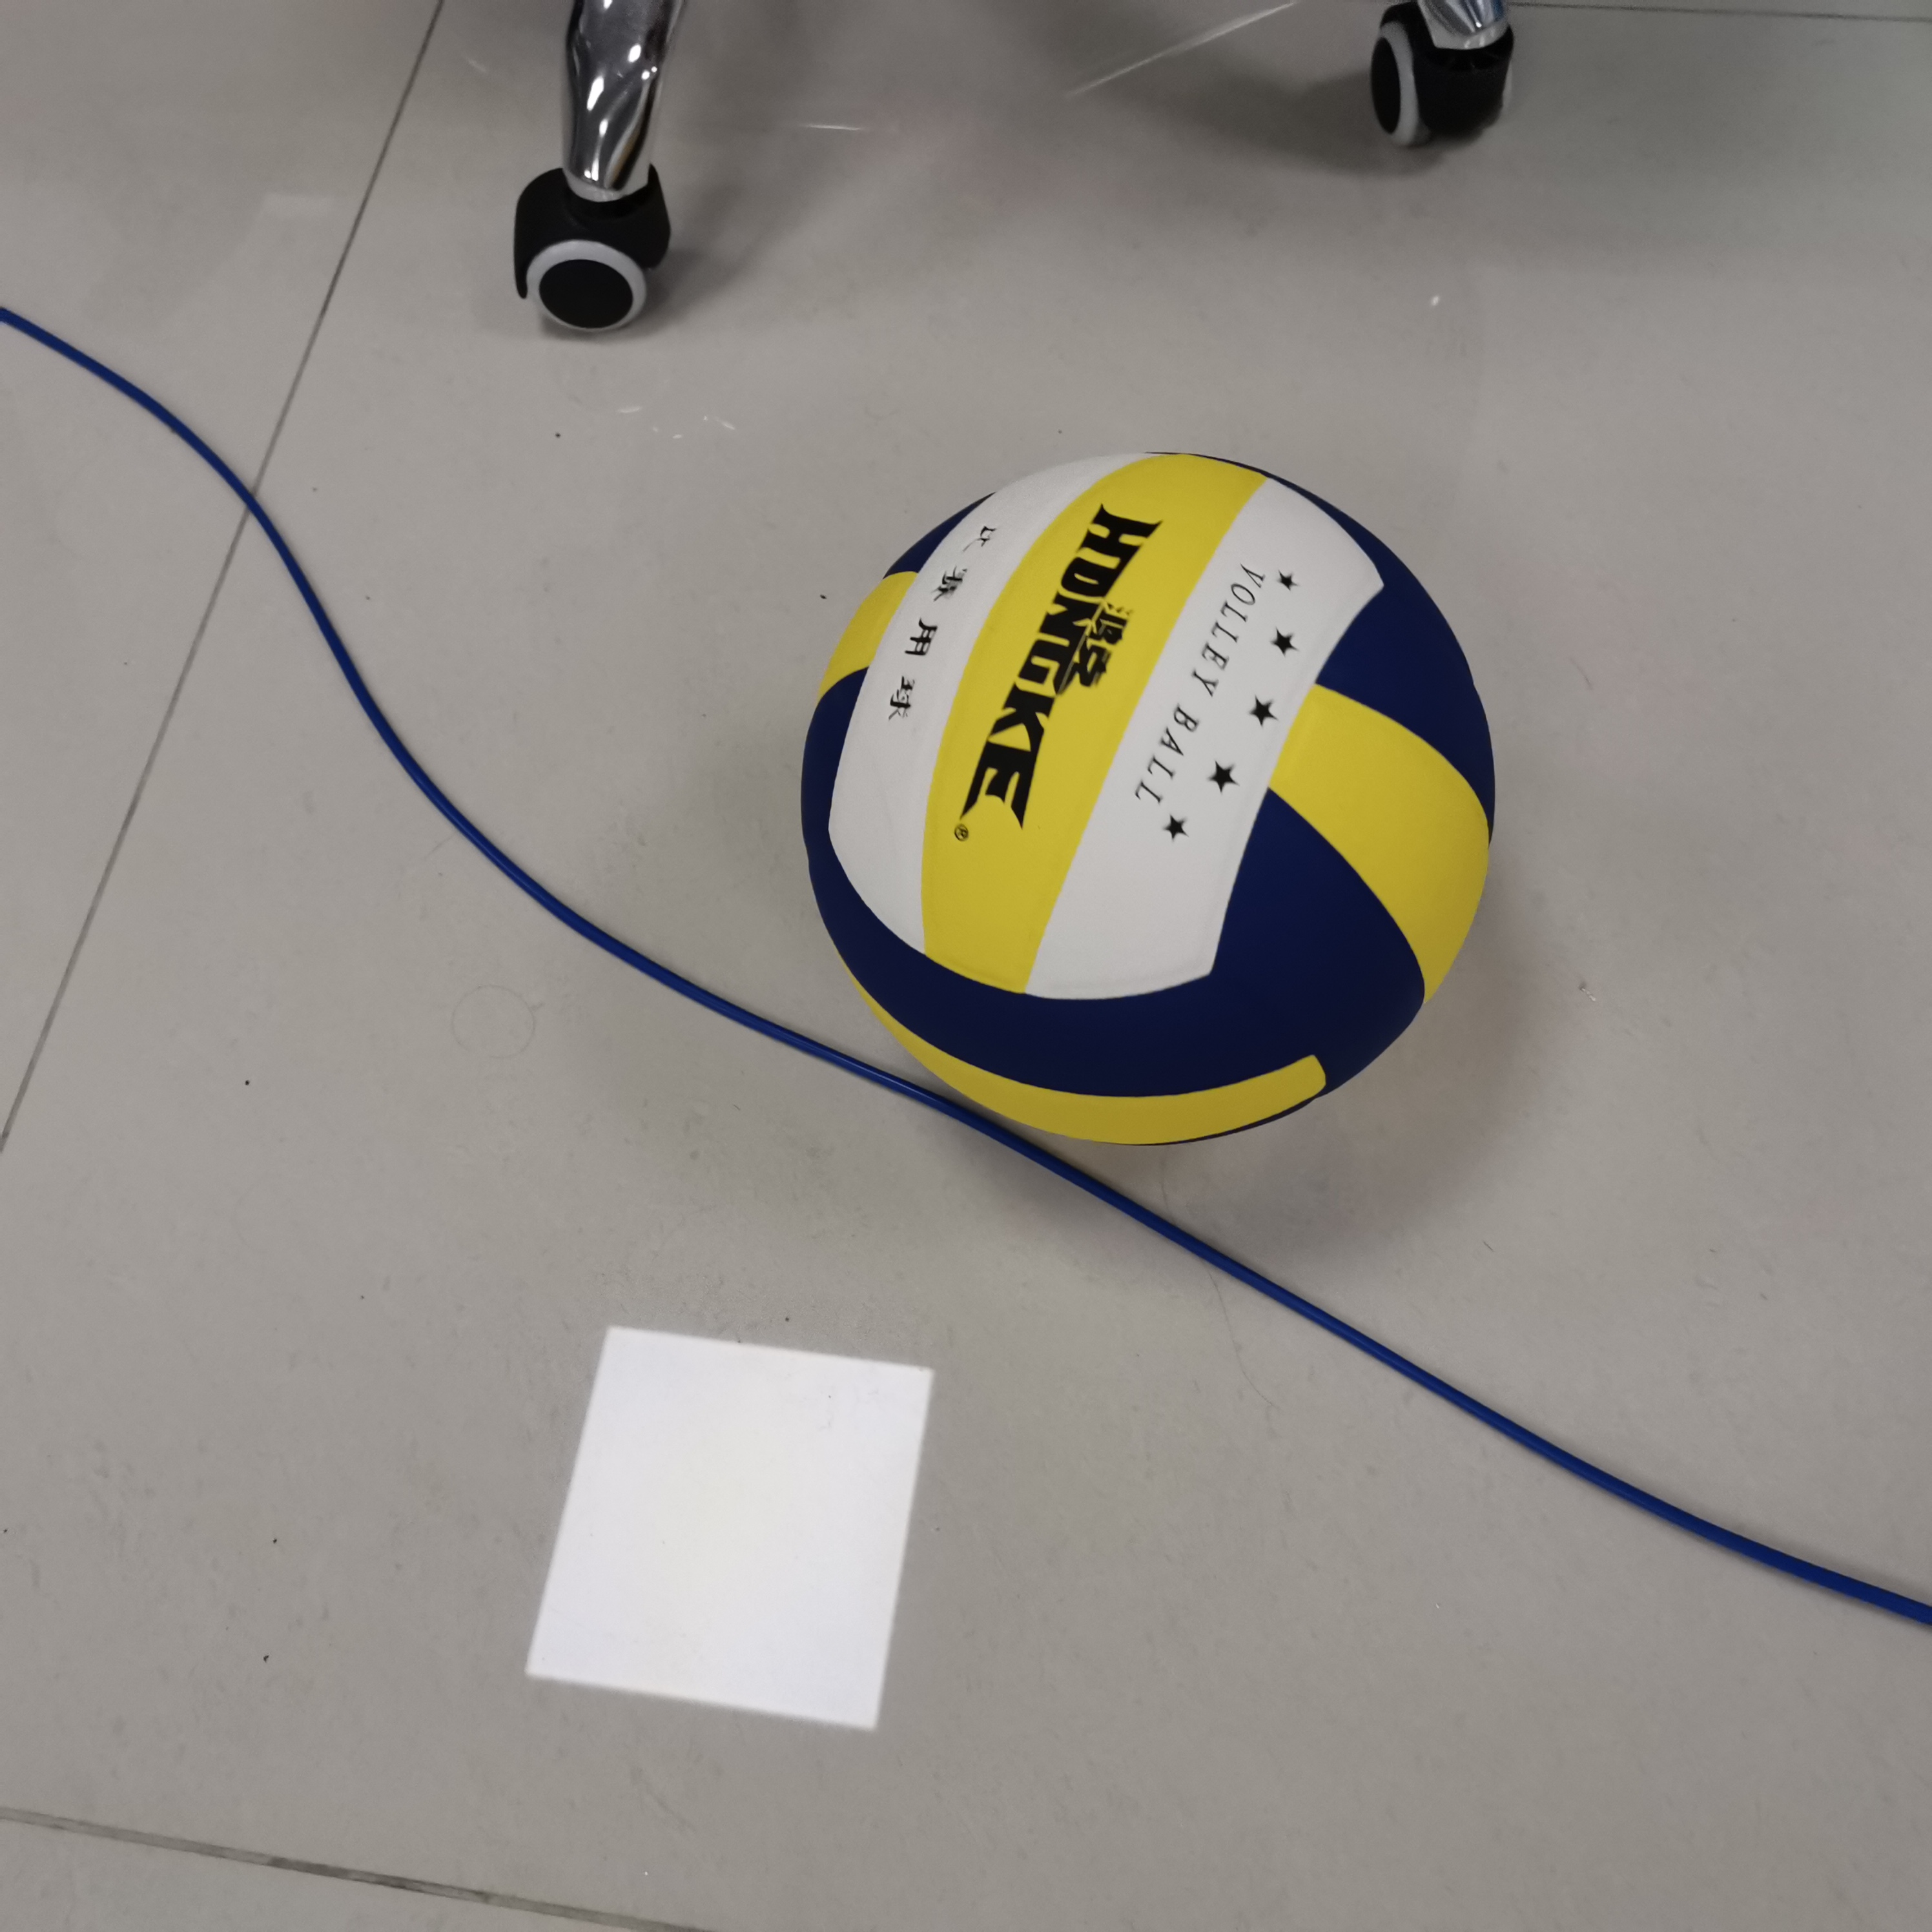volleyball: (796, 453, 1500, 1148)
